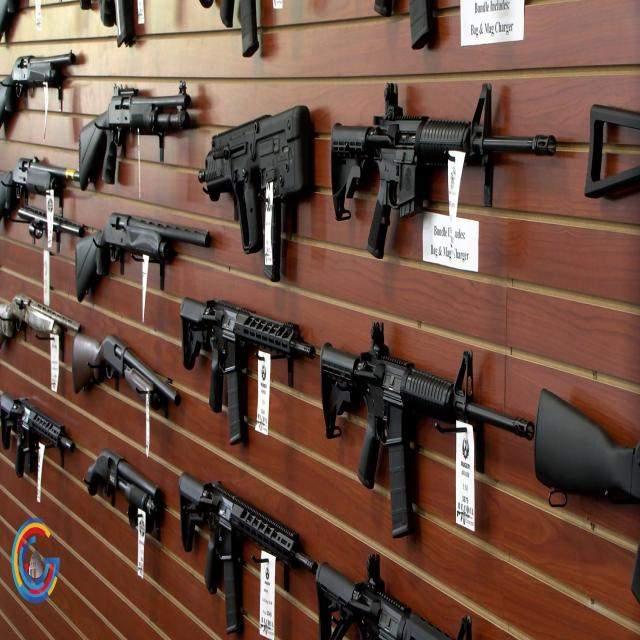Rifle: (181, 301, 536, 538), (331, 84, 560, 260), (199, 106, 316, 284), (181, 476, 319, 619), (0, 393, 76, 478)
ShotGun: (78, 83, 191, 193), (74, 214, 212, 304), (71, 334, 180, 407), (85, 451, 162, 535), (0, 50, 76, 128), (0, 158, 80, 221), (0, 296, 78, 344)
